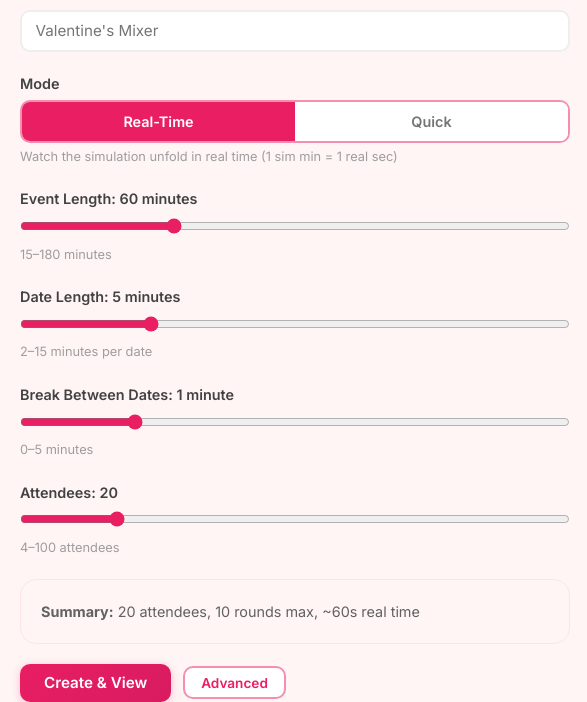
Scenario: CreateSimulationPage › toggles advanced settings
(page scrolled)
Expected: the text "demographic settings" is not shown
Step 1. Click the button "Advanced" → (235, 683), box [183,666,286,699]
(page scrolled)
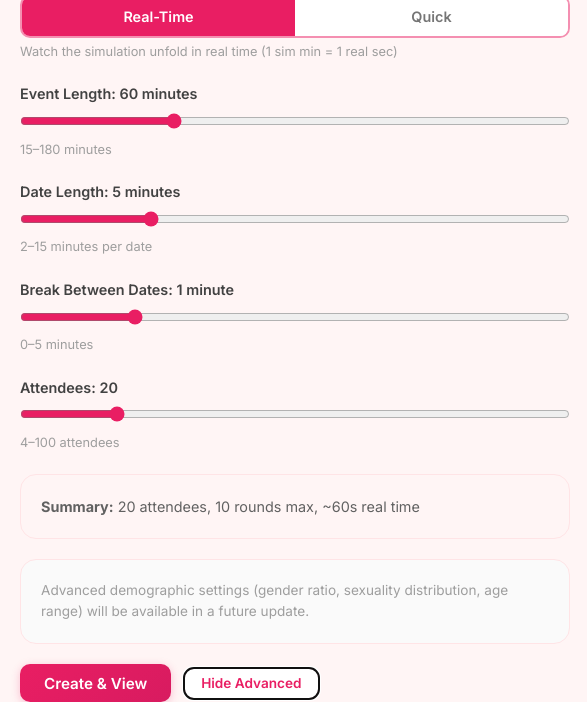
Expected: the text "demographic settings" is shown, [41,582,508,620]
